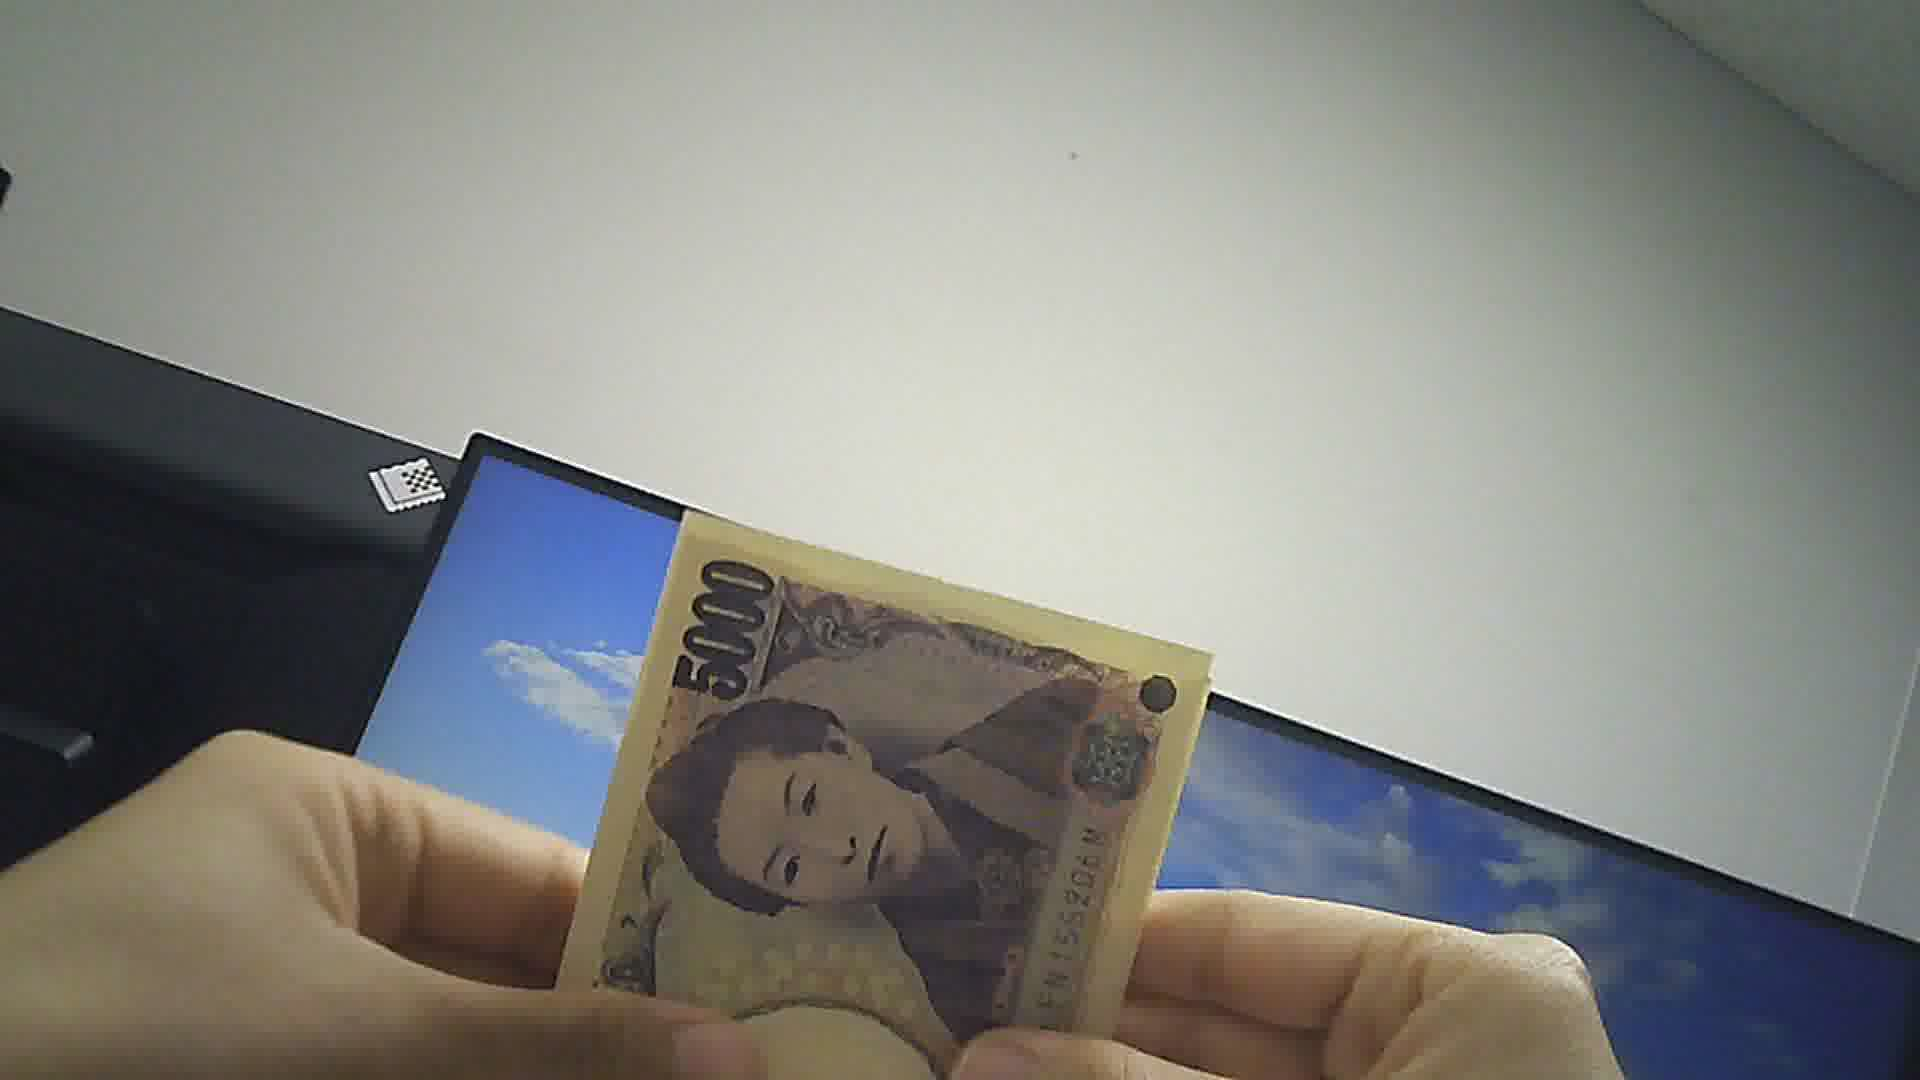5,000 Yen: (549, 505, 1197, 1079)
